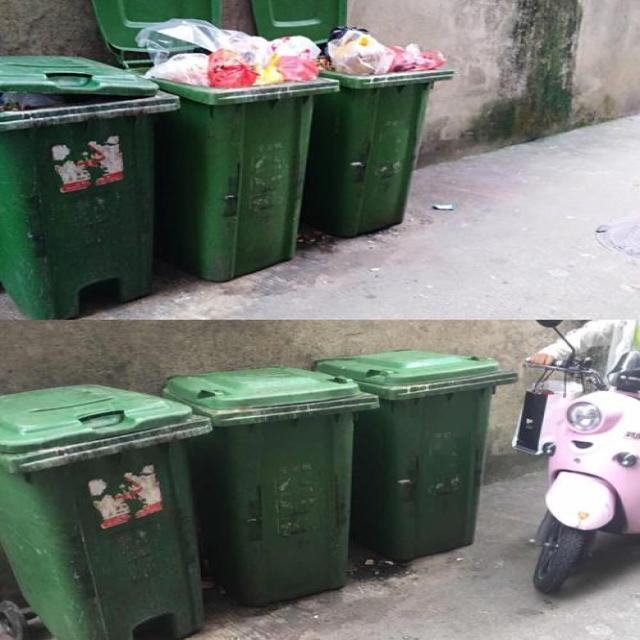garbage_bin: (0, 382, 211, 639), (161, 366, 380, 606), (307, 349, 518, 561)
overflow: (131, 15, 339, 282), (0, 52, 174, 317), (305, 28, 453, 237)
